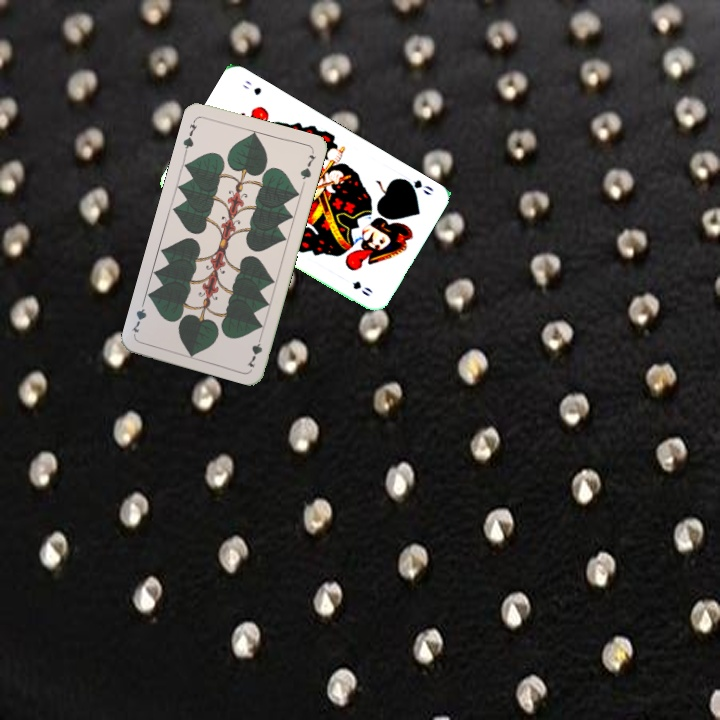G7: (243, 330, 265, 370), (179, 116, 200, 156)
GO: (397, 174, 437, 198)
